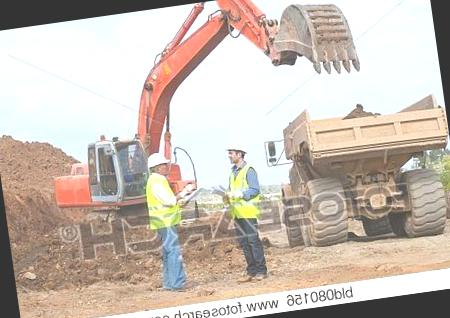helmet: (145, 149, 172, 174), (222, 137, 248, 161)
person: (210, 132, 277, 286), (136, 145, 201, 293)
